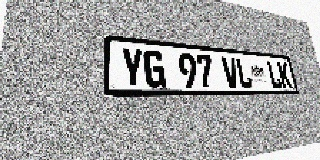7: (195, 54, 215, 88)
9: (178, 52, 199, 88)
G: (143, 49, 166, 88)
K: (277, 62, 293, 88)
L: (235, 58, 253, 88), (266, 61, 282, 88)
V: (221, 56, 240, 88)
Y: (120, 47, 145, 88)
